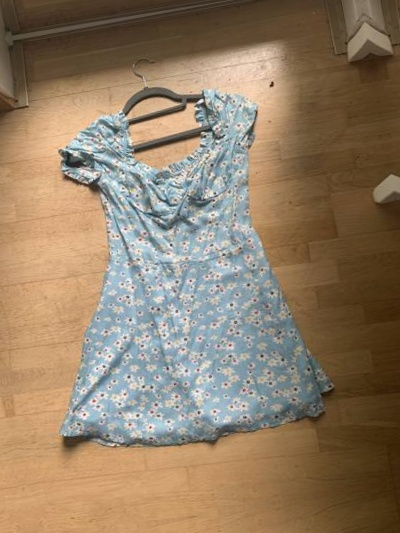Dress: (0, 35, 400, 497), (0, 103, 15, 533), (50, 526, 400, 533), (396, 0, 400, 422)
